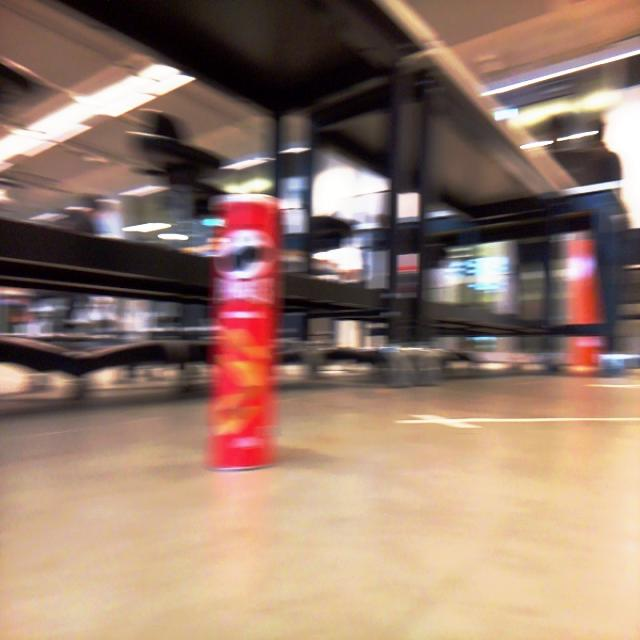redpringles: (197, 180, 295, 485)
